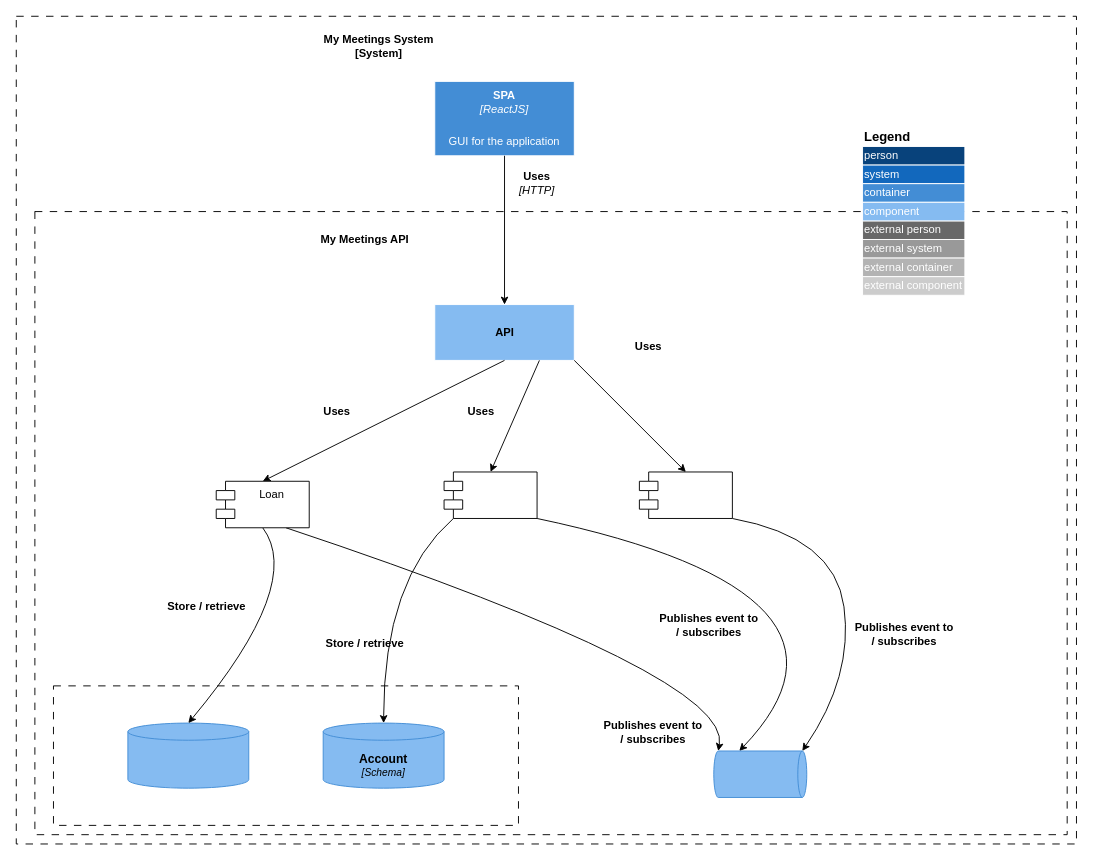
Image size: 1093x860. Some labels were removed from this diagram. The box of each missing label's shape, as (x1, y1, x2, y2) in pixels:
Account Management: (443, 471, 537, 518)
Event Bus [In memory]: (713, 750, 807, 797)
LoanRecords [Schema]: (127, 722, 249, 788)
Search: (638, 471, 732, 518)
